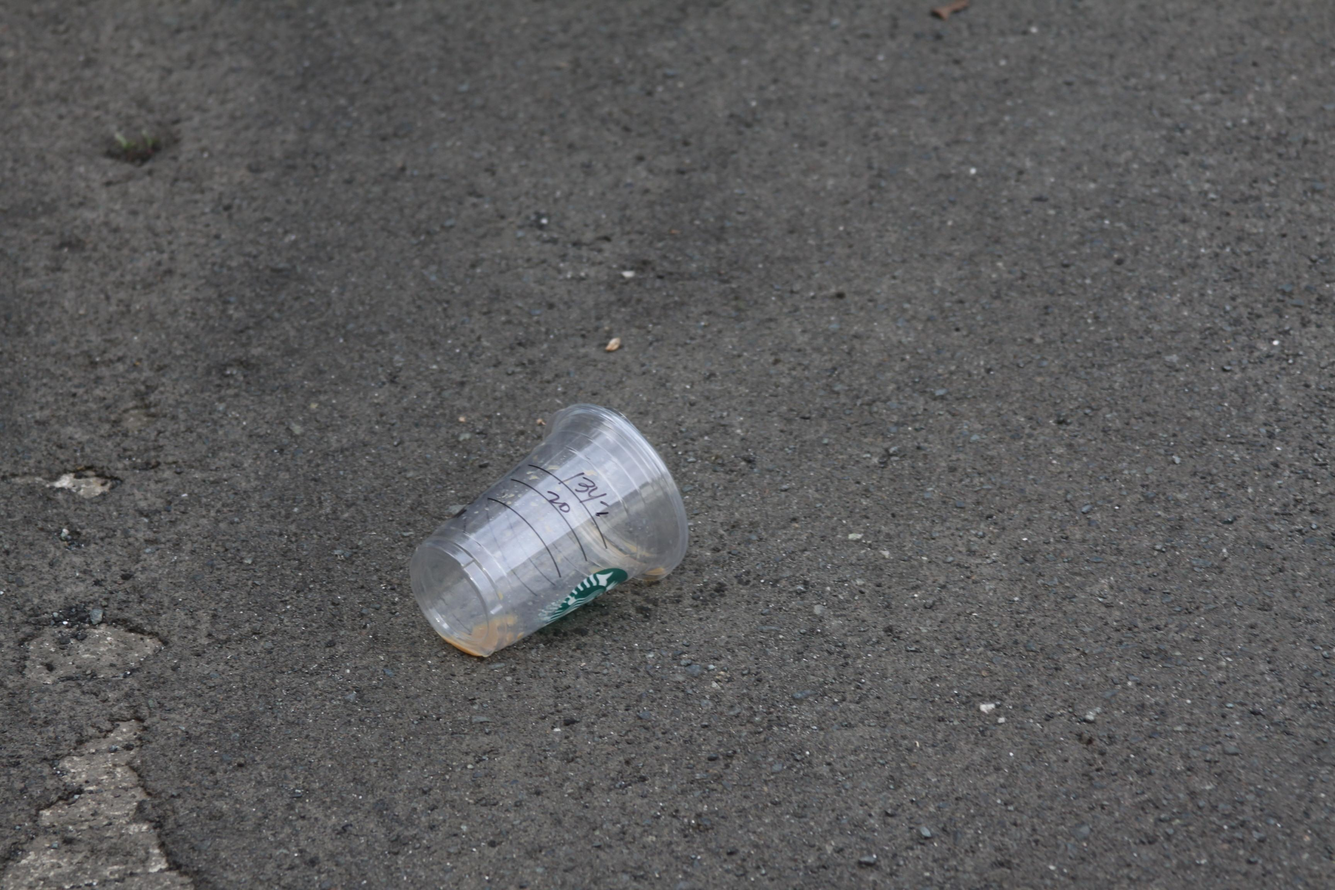Plastic: (406, 398, 693, 661)
